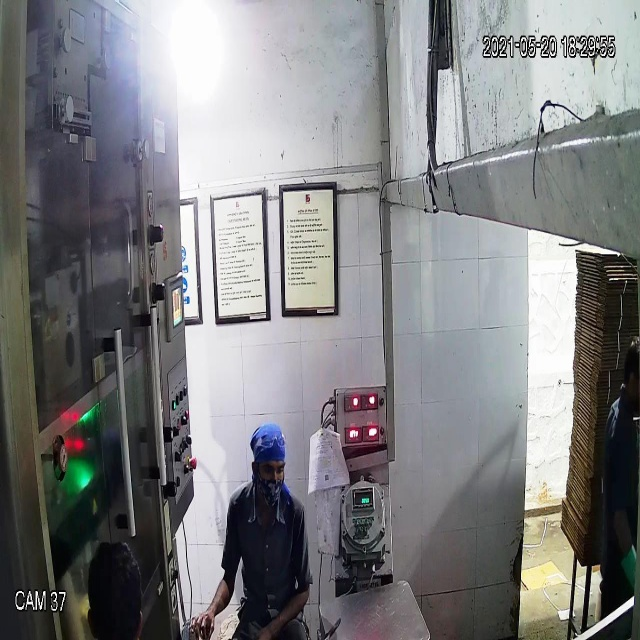Sin_gafas: (253, 452, 288, 484)
